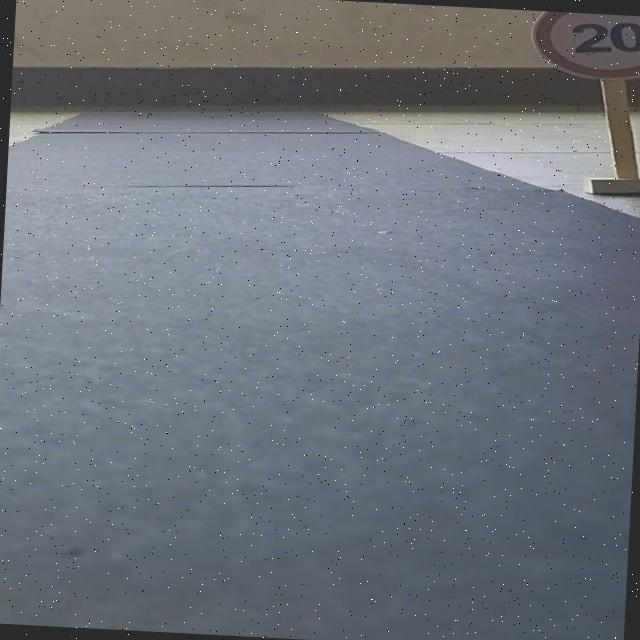Speed20: (515, 10, 640, 88)
